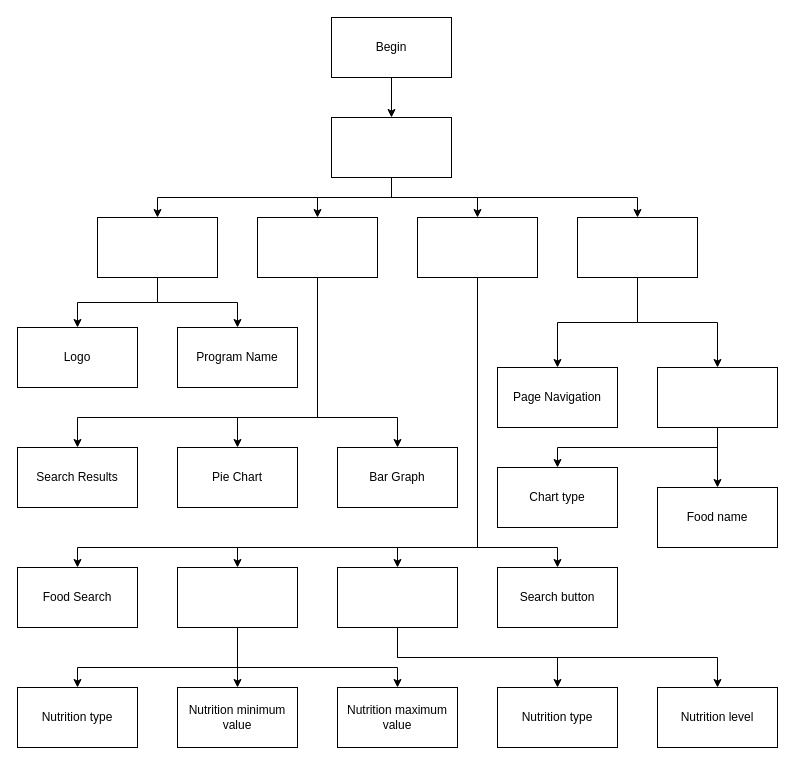
Some shapes in this 795 by 765 pixel diagram are drawn without their labels. Each missing label, with the centre of its shape:
"Footer" goes at (637,247).
"Functional Interface" goes at (391,147).
"Header" goes at (157,247).
"Information Display" goes at (317,247).
"Nutrition Breakdown" goes at (717,397).
"Nutrition Level Filter" goes at (397,597).
"Nutrition Range FIlter" goes at (237,597).
"Search Filtering" goes at (477,247).
